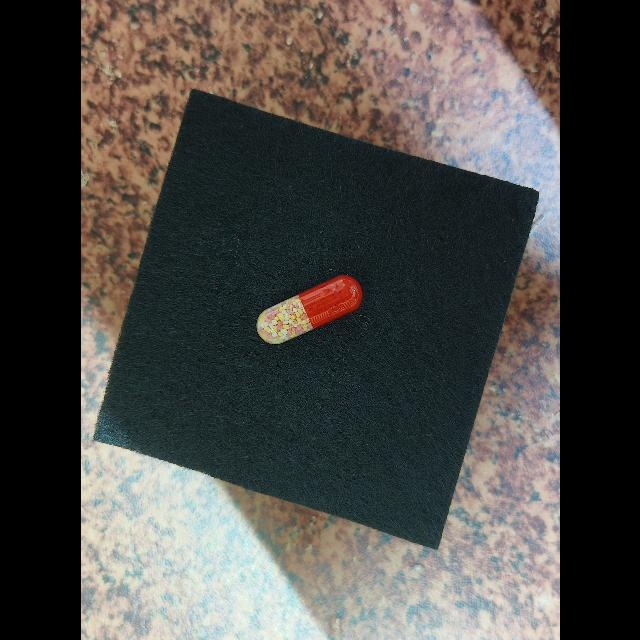Intact Capsule: (255, 275, 362, 344)
